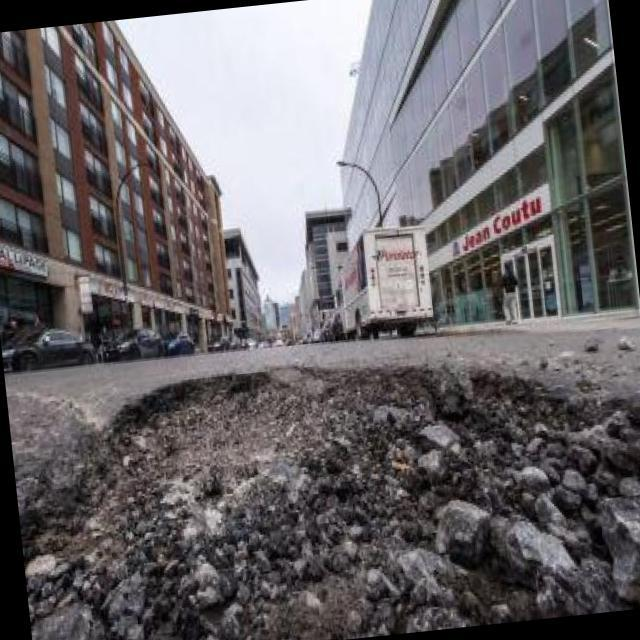Pothole: (16, 365, 640, 640)
